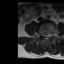CCS_normal: (45, 32, 47, 41)
LFS_normal: (49, 32, 51, 38)
LLS_normal: (47, 32, 49, 39)
RFS_normal: (41, 31, 43, 38)
RLS_normal: (43, 32, 45, 39)
